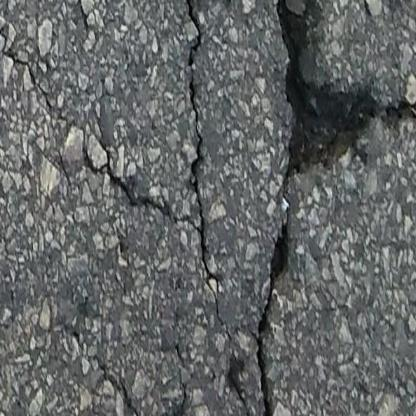Cracks: (78, 0, 236, 345), (273, 0, 416, 186), (253, 218, 294, 416), (0, 15, 57, 114), (84, 353, 148, 416), (162, 338, 193, 416), (225, 349, 255, 416), (71, 0, 94, 34)
